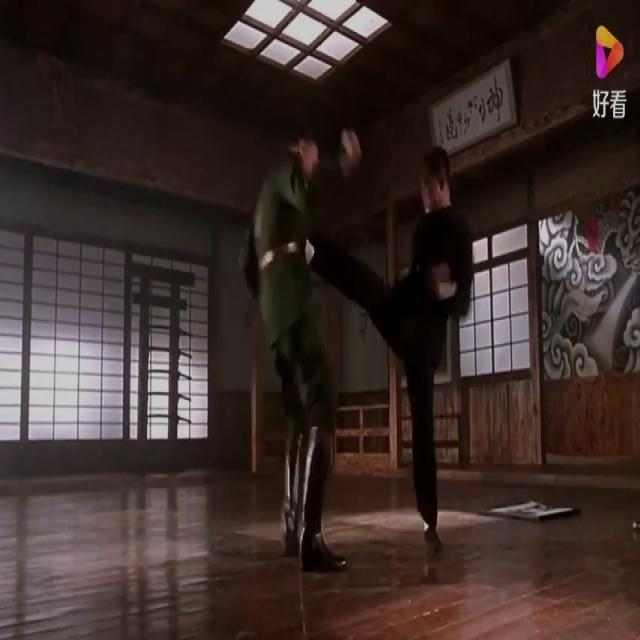fight: (240, 112, 474, 575)
